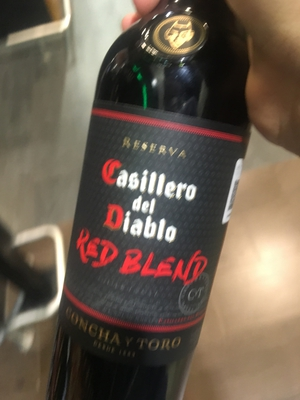casillero del diablo red blend: (52, 33, 261, 400)
